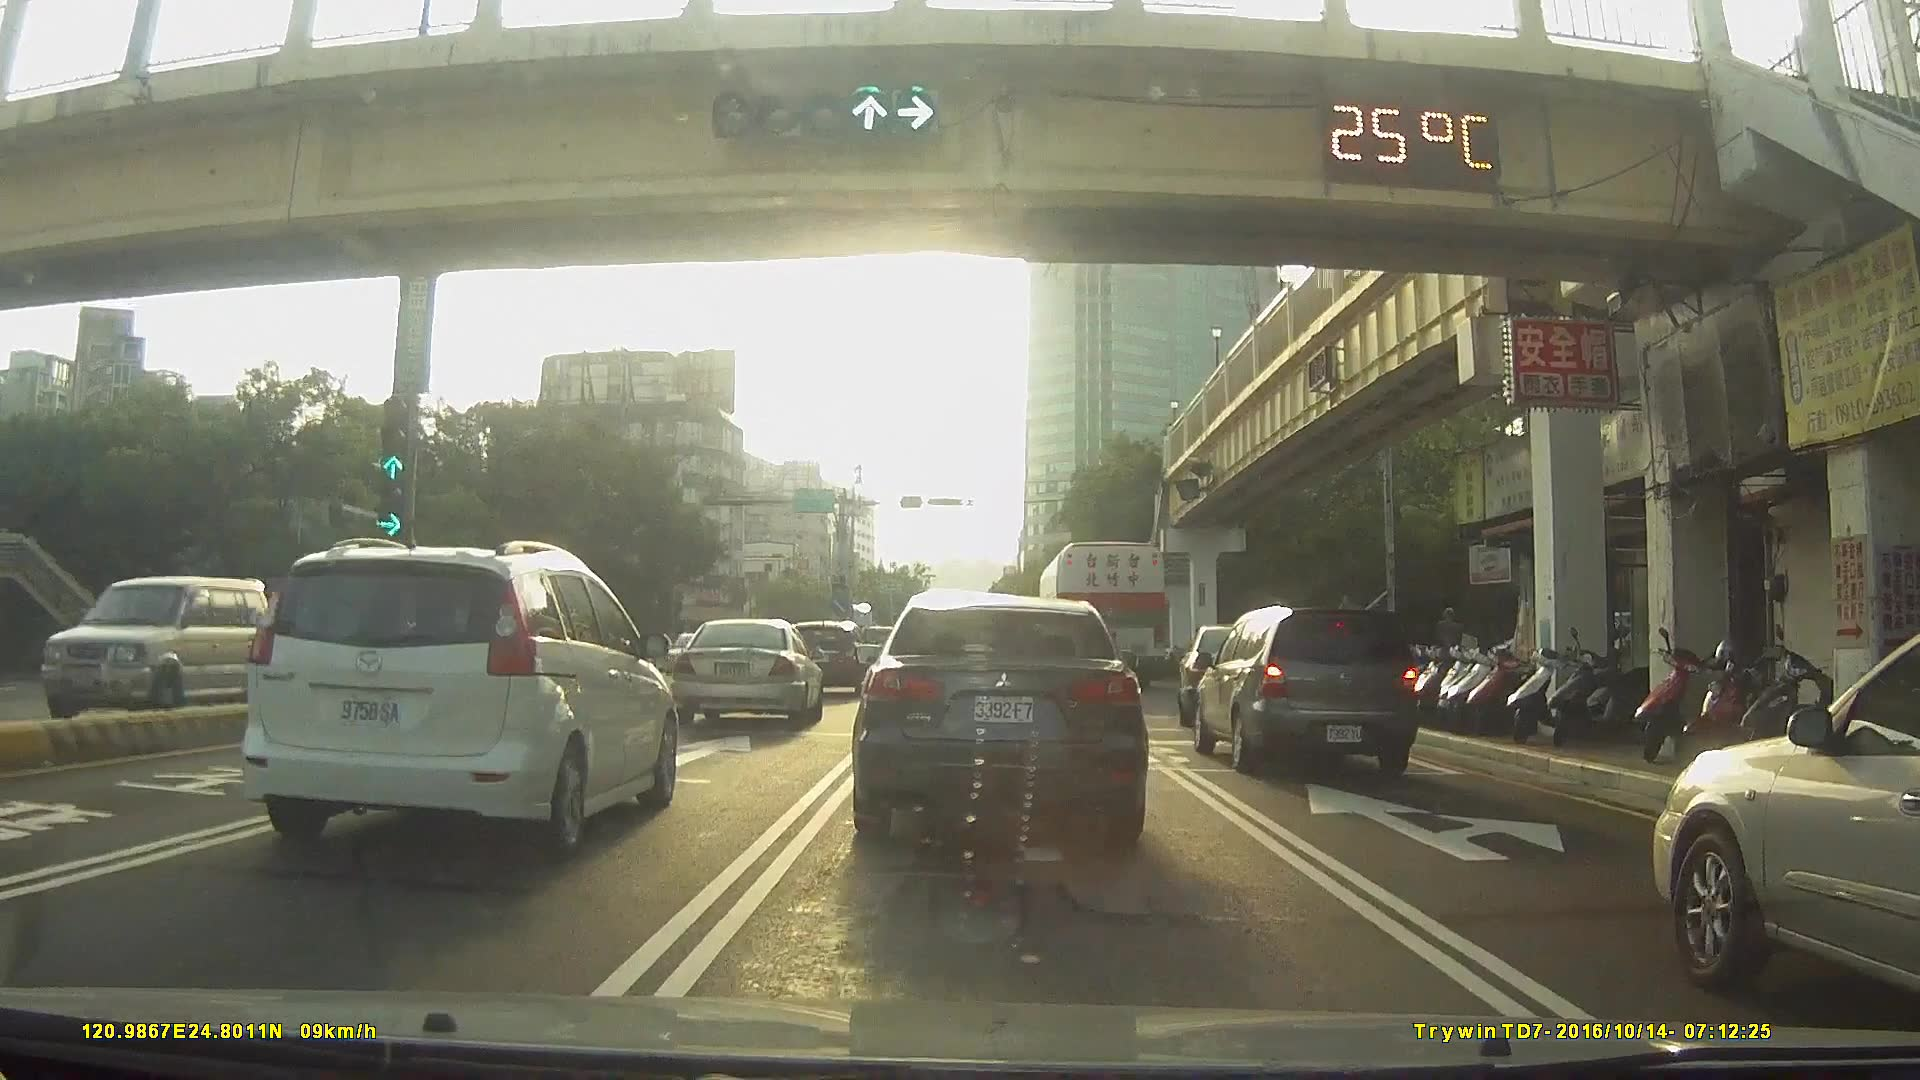vehicle: (232, 535, 684, 858), (1647, 629, 1920, 1000), (851, 589, 1146, 853), (1191, 604, 1419, 781), (33, 568, 257, 723), (1034, 539, 1171, 688), (670, 615, 820, 728), (1182, 621, 1302, 720), (779, 621, 864, 698), (647, 633, 707, 680)
